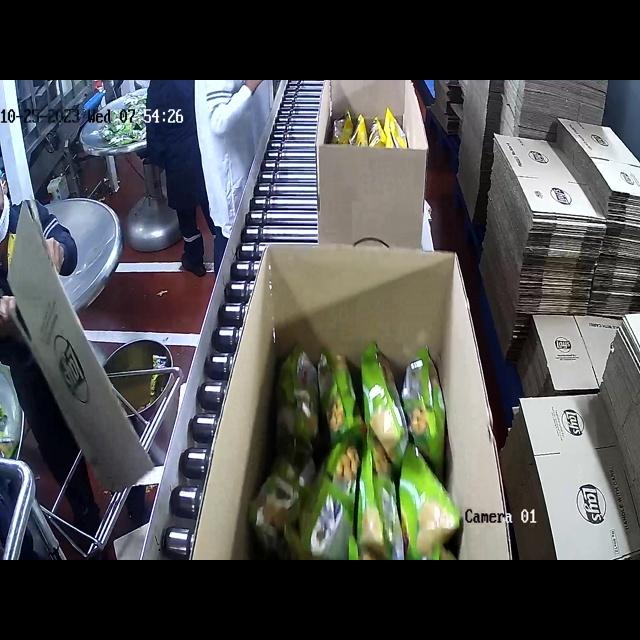salted: (315, 87, 415, 159)
yogurt: (276, 334, 451, 560)
